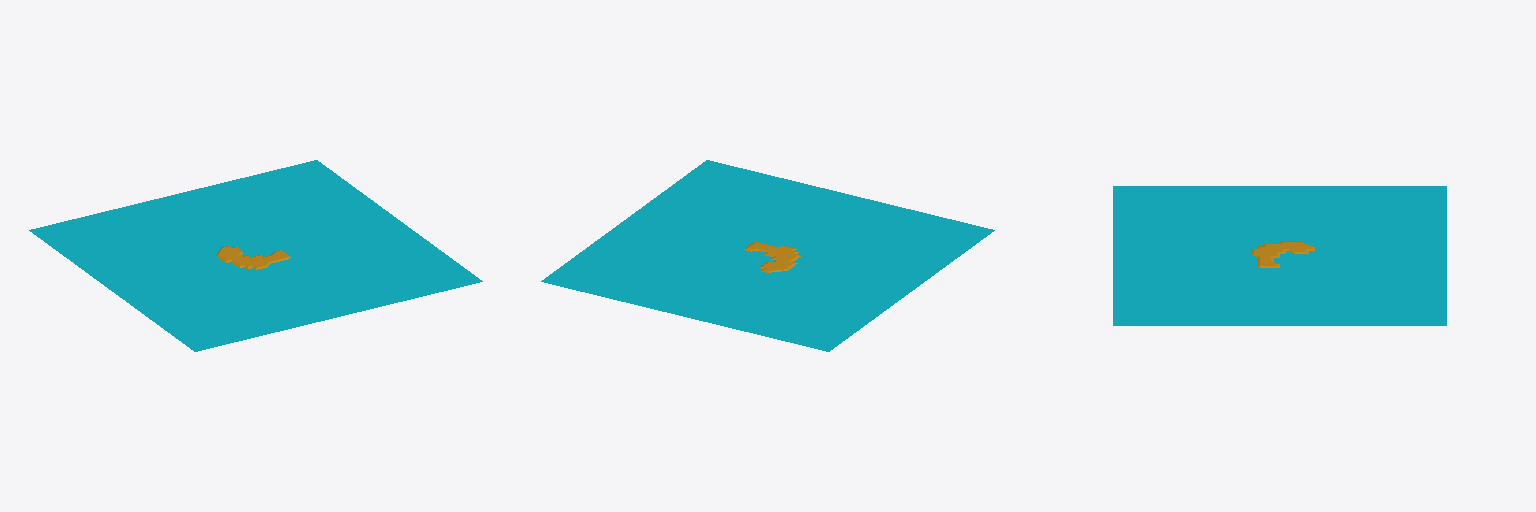
File: Island.obj
3 renders of one model, left to right at view 1: azimuth 30°, elevation 25°; view 2: azimuth 150°, elevation 25°; view 3: azimuth 270°, elevation 25°, orthographic.
Parts seen in each view (by area): view 1: Plane, Plane.001; view 2: Plane, Plane.001; view 3: Plane, Plane.001.
Part boxes in pixels (bbox=[...]): Plane: bbox=[29, 160, 482, 351]; Plane.001: bbox=[216, 246, 290, 269]; Plane: bbox=[541, 160, 994, 351]; Plane.001: bbox=[743, 242, 800, 272]; Plane: bbox=[1113, 186, 1446, 325]; Plane.001: bbox=[1251, 241, 1314, 267].
Size of the model in its own units: 66.83 by 0.3559 by 66.83.